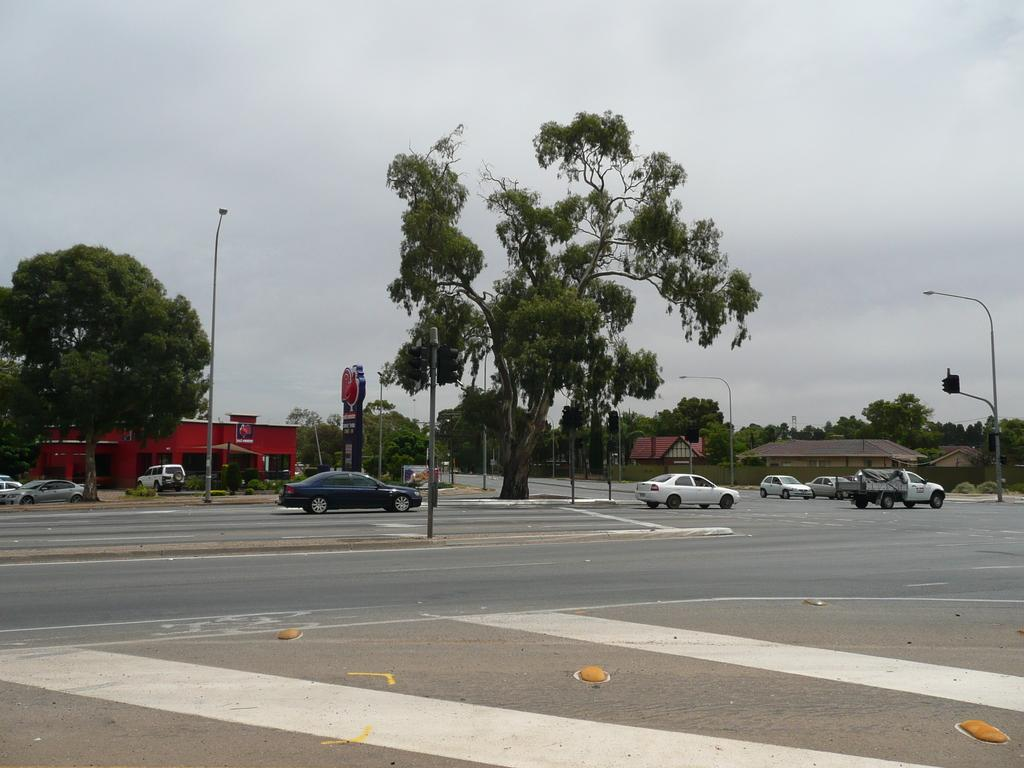Car: (284, 464, 415, 508), (857, 463, 949, 505), (644, 467, 730, 511), (0, 468, 83, 501), (141, 459, 175, 488), (763, 472, 794, 496), (813, 479, 841, 491)
